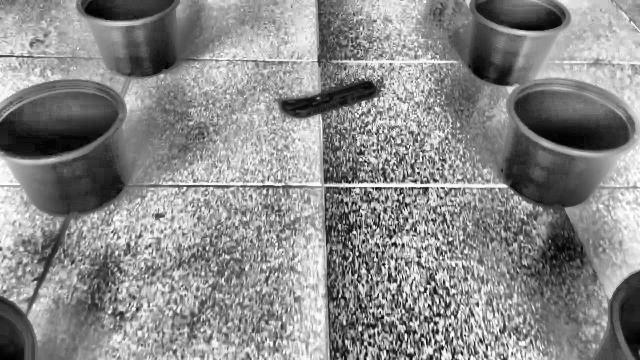pot: (500, 78, 640, 208), (0, 80, 130, 218)
